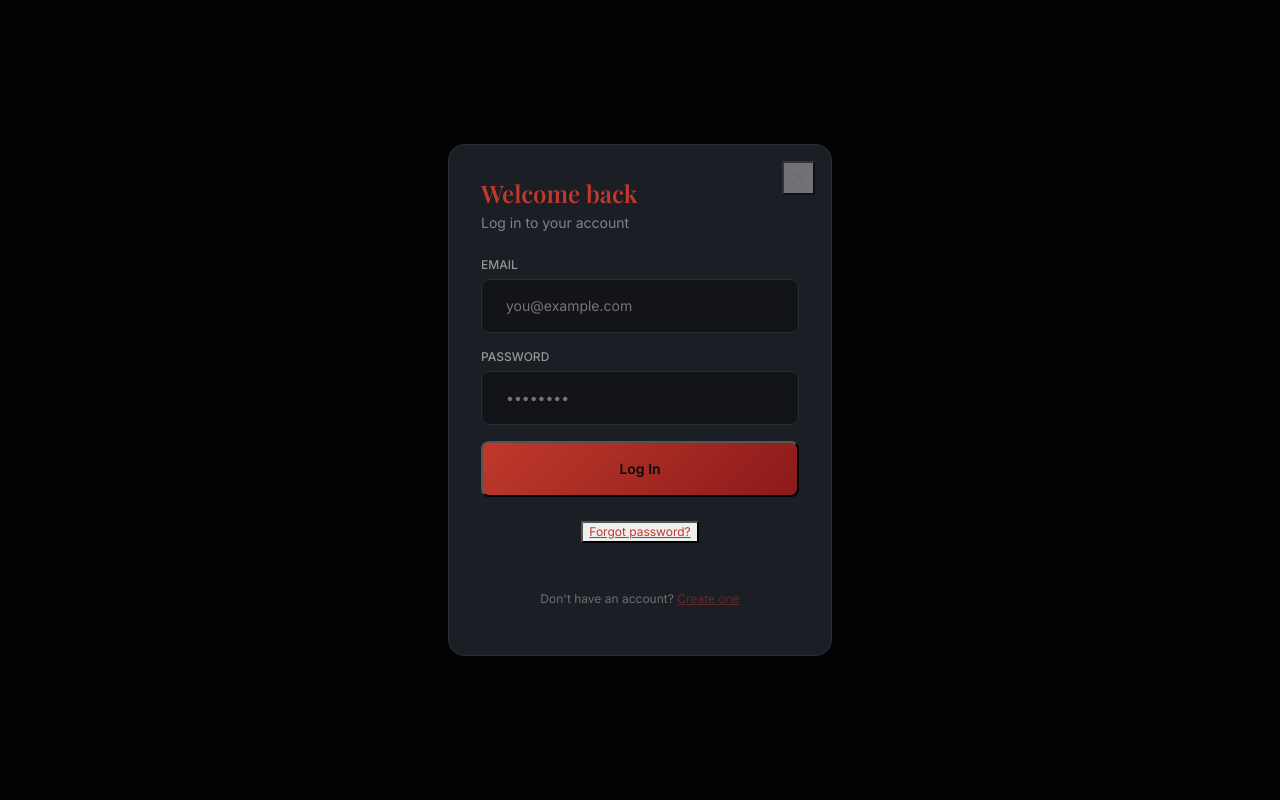
Test: Login popup › a wrong password shows the server message and stays open
This screenshot has width=1280, height=800.
Type "preston@example.com" into the field labelled "EMAIL" at {"x": 640, "y": 306}, box [481, 279, 799, 333]
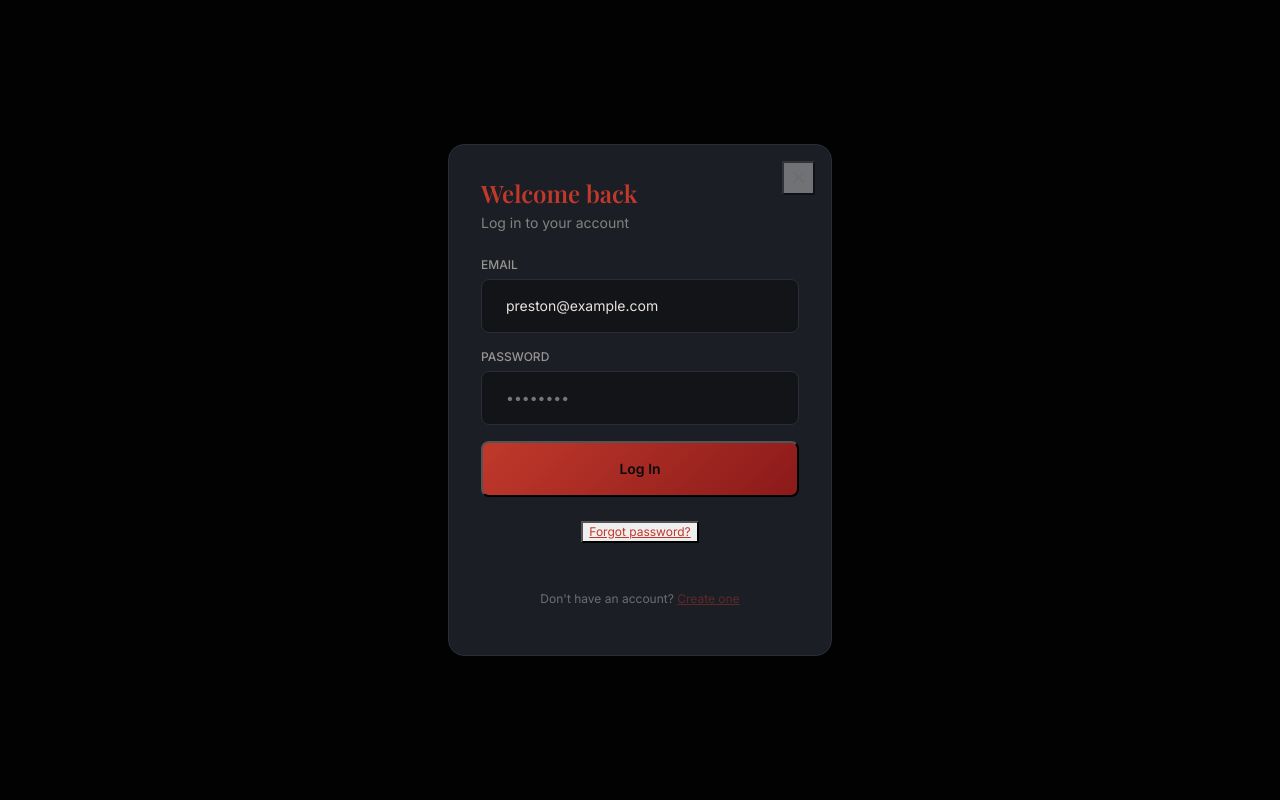
Type "wrong" into the password field labelled "PASSWORD" at {"x": 640, "y": 398}, box [481, 371, 799, 425]
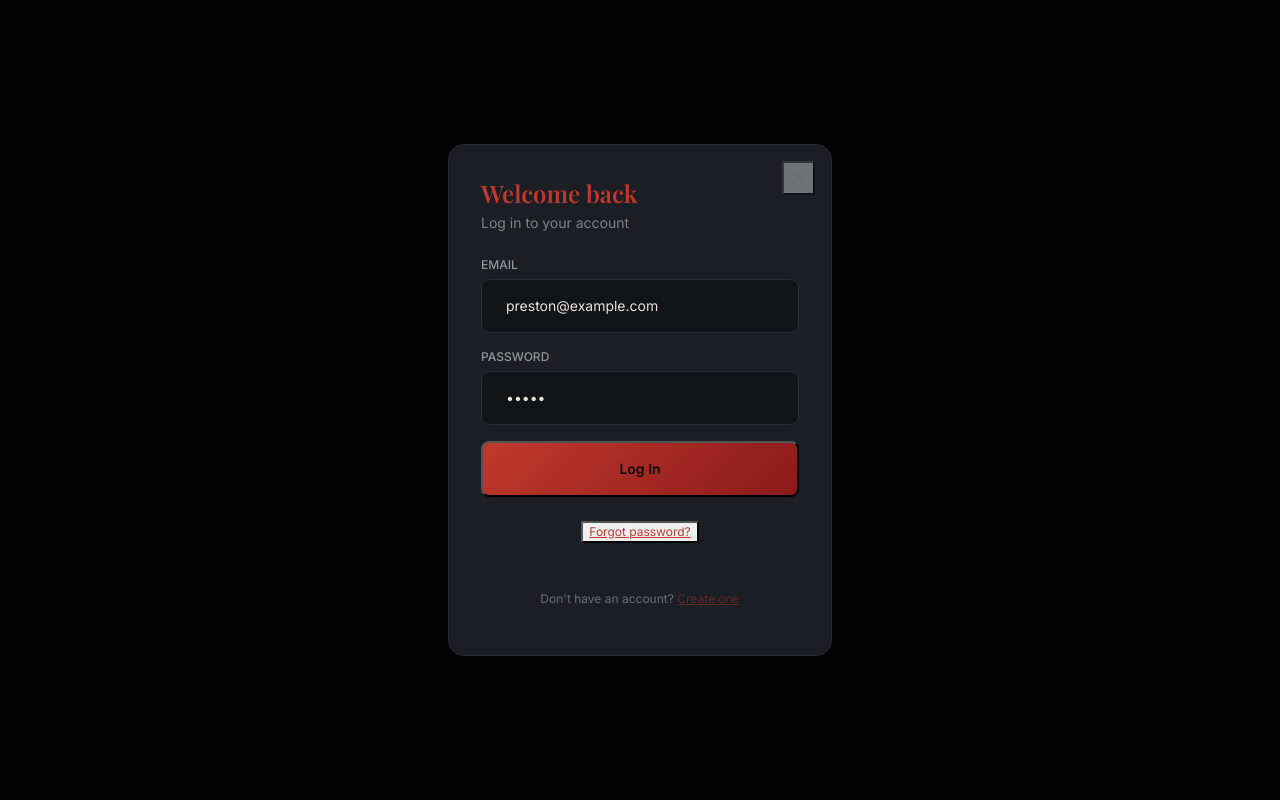
Click the button "Log In" at {"x": 640, "y": 469}, box [481, 441, 799, 497]
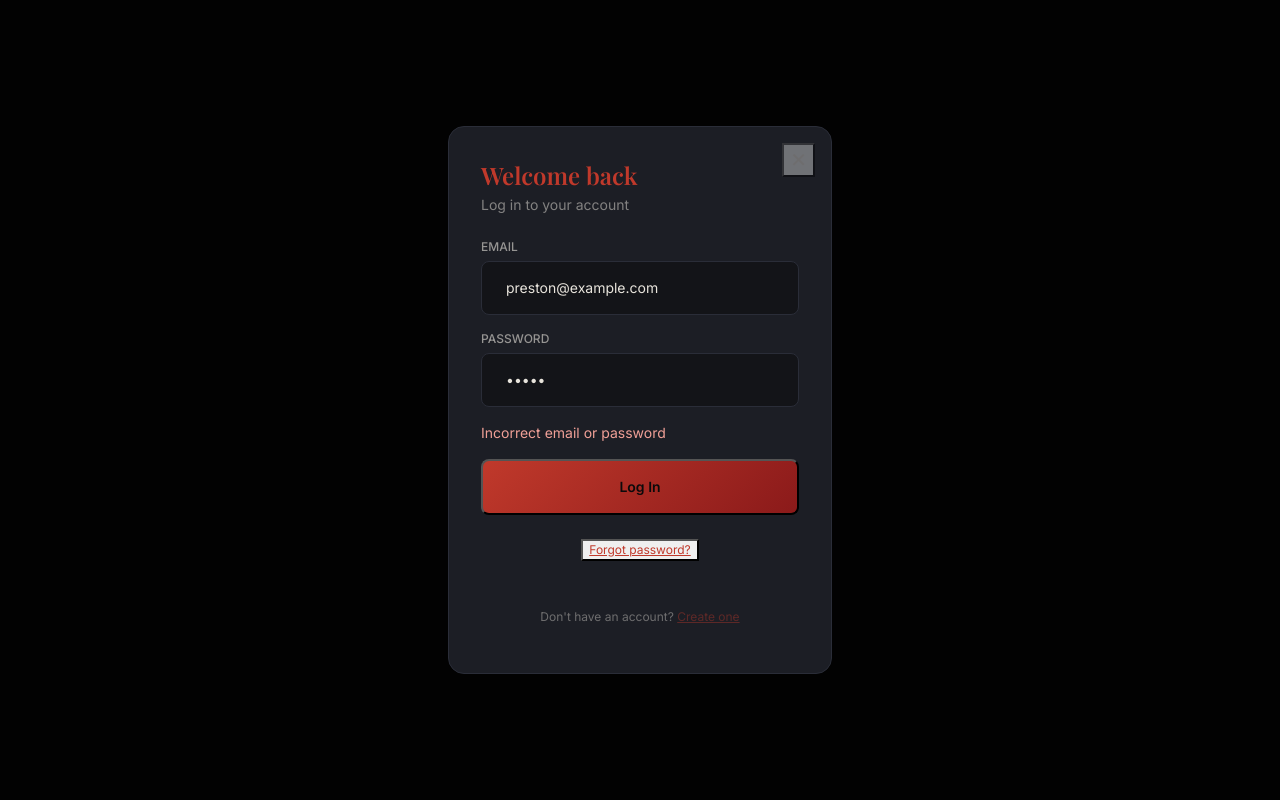
Result: the message reads "Incorrect email or password" at [481, 424, 666, 441]
